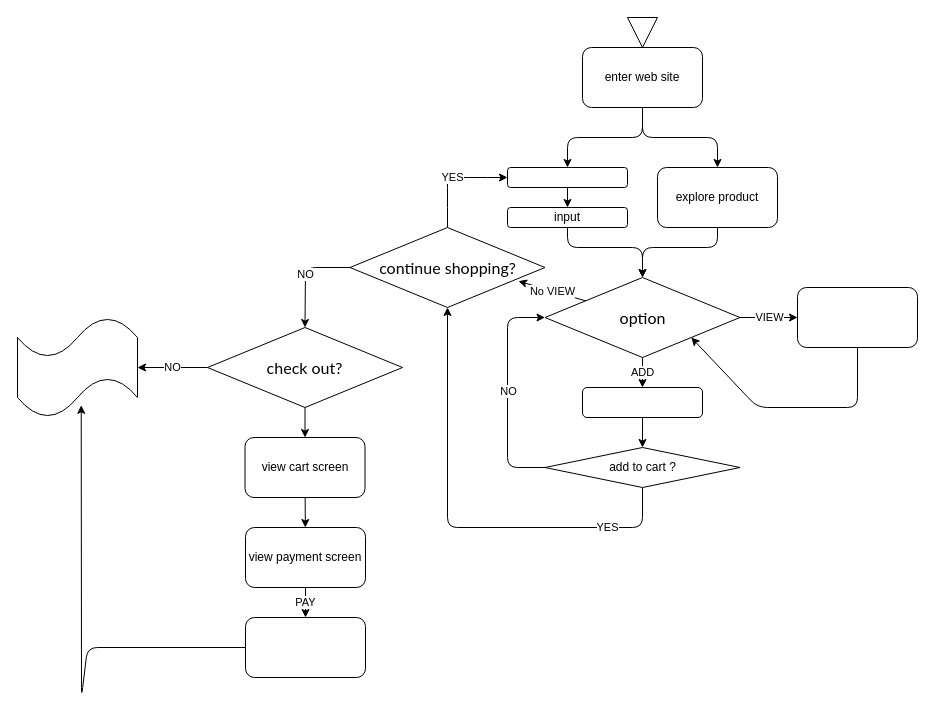
The diagram is 935 pixels wide and 723 high, and some of its shapes have lost their labels. Each missing label, with the centre of its shape:
"confirm / get email" goes at (305,647).
"confirmation added" goes at (642,402).
"leave website" goes at (77,367).
"product's webpage" goes at (857,317).
"search product" goes at (567,177).
